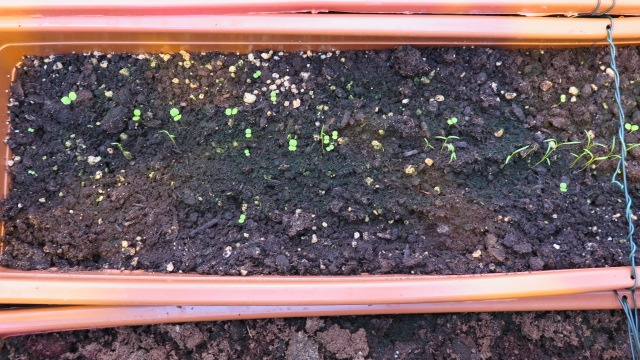crop: (571, 132, 607, 164), (499, 144, 528, 166), (544, 136, 577, 155), (578, 151, 606, 172), (159, 129, 177, 145), (420, 137, 436, 152), (438, 134, 462, 144), (448, 144, 458, 164)
weed: (56, 90, 80, 105), (165, 107, 186, 122), (219, 105, 241, 116), (285, 137, 300, 151), (129, 108, 143, 122), (624, 123, 640, 133), (447, 117, 460, 129), (241, 128, 254, 139), (236, 213, 247, 225), (559, 182, 569, 195), (239, 147, 252, 156), (558, 93, 568, 103), (325, 145, 336, 152), (270, 91, 277, 101), (253, 70, 261, 78), (332, 131, 338, 139), (323, 135, 329, 143)
